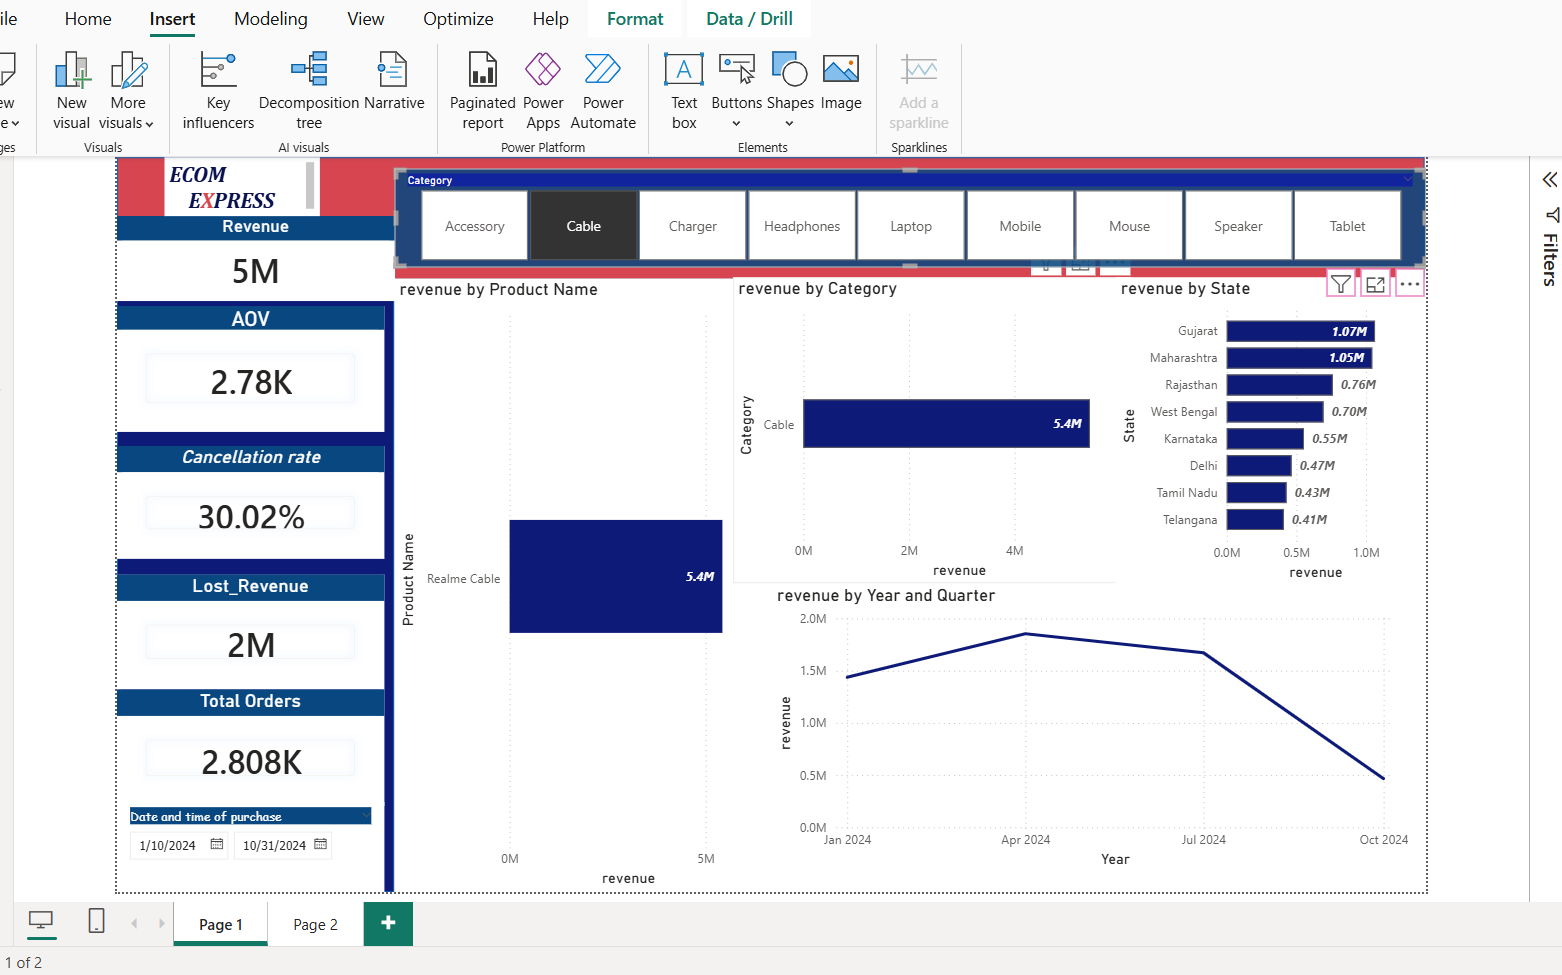

What the dashboard file says about the page in this screenshot:
{"tool":"powerbi","page":{"name":"Page 1","canvas":[1280,720],"ordinal":0},"visuals":[{"type":"shape","box":[0,1.2,1279.1,119.8],"z":0},{"type":"shape","box":[0,100,271.2,620],"z":1000},{"type":"barChart","fields":{"Y":["Table.revenue"],"Category":["Products.Product Name"]},"box":[271.2,120,360,600],"z":2000},{"type":"barChart","fields":{"Y":["Table.revenue"],"Category":["Products.Category"]},"box":[602.5,118.8,388.8,300],"z":3000},{"type":"lineChart","fields":{"Y":["Table.revenue"],"Category":["orders.Date and time of purchase.Variation.Date Hierarchy.Year","orders.Date and time of purchase.Variation.Date Hierarchy.Quarter","orders.Date and time of purchase.Variation.Date Hierarchy.Month","orders.Date and time of purchase.Variation.Date Hierarchy.Day"]},"box":[641.2,420,627.5,281.2],"z":4000},{"type":"barChart","fields":{"Y":["Table.revenue"],"Category":["customers.State"]},"box":[977.5,118.8,302.5,301.2],"z":5000},{"type":"slicer","fields":{"Values":["Products.Category"]},"box":[271.5,12.2,1008.8,96.6],"z":6000},{"type":"cardVisual","title":"AOV","fields":{"Data":["Table.Avg_order_value"]},"box":[0,146.7,261.7,123.3],"z":7000},{"type":"cardVisual","title":"Cancellation rate","fields":{"Data":["Table.cancellation_rate"]},"box":[0,283.3,261.7,110],"z":8000},{"type":"cardVisual","title":"Lost_Revenue","fields":{"Data":["Table.lost_revenue_cancellation"]},"box":[0,410,261.7,111.7],"z":9000},{"type":"cardVisual","title":"Revenue","fields":{"Data":["Table.revenue"]},"box":[0,58.3,271.7,83.3],"z":10000},{"type":"cardVisual","title":"Total Orders","fields":{"Data":["CountNonNull(orders.OrderID)"]},"box":[0,521.7,261.7,113.3],"z":11000},{"type":"slicer","fields":{"Values":["orders.Date and time of purchase"]},"box":[0,631.7,261.7,88.3],"z":12000},{"type":"textbox","box":[46,1.2,151.6,57.5],"z":13000}]}

Visuals, with their boxes on the page's 1280x720 design canvas (x1, y1, x2, y2). These are canvas units, not pixel positions in the 1562x975 screenshot, which may show the page scaled, cropped or inside an application window:
shape: select_region(0, 1, 1279, 121)
shape: select_region(0, 100, 271, 720)
barChart - Table.revenue x Products.Product Name: select_region(271, 120, 631, 720)
barChart - Table.revenue x Products.Category: select_region(602, 119, 991, 419)
lineChart - Table.revenue x orders.Date and time of purchase.Variation.Date Hierarchy.Year: select_region(641, 420, 1269, 701)
barChart - Table.revenue x customers.State: select_region(978, 119, 1280, 420)
slicer - Products.Category: select_region(272, 12, 1280, 109)
"AOV" cardVisual: select_region(0, 147, 262, 270)
"Cancellation rate" cardVisual: select_region(0, 283, 262, 393)
"Lost_Revenue" cardVisual: select_region(0, 410, 262, 522)
"Revenue" cardVisual: select_region(0, 58, 272, 142)
"Total Orders" cardVisual: select_region(0, 522, 262, 635)
slicer - orders.Date and time of purchase: select_region(0, 632, 262, 720)
textbox: select_region(46, 1, 198, 59)
